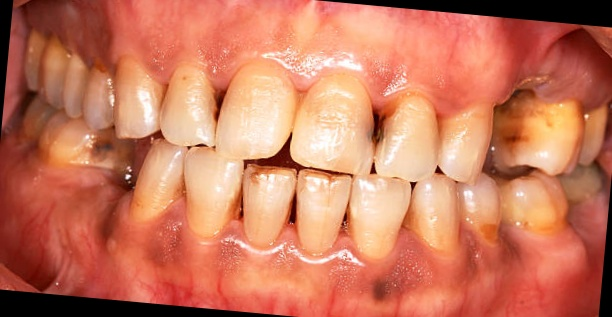Gingivitis: (138, 212, 189, 266), (86, 198, 127, 254), (372, 263, 417, 306)
